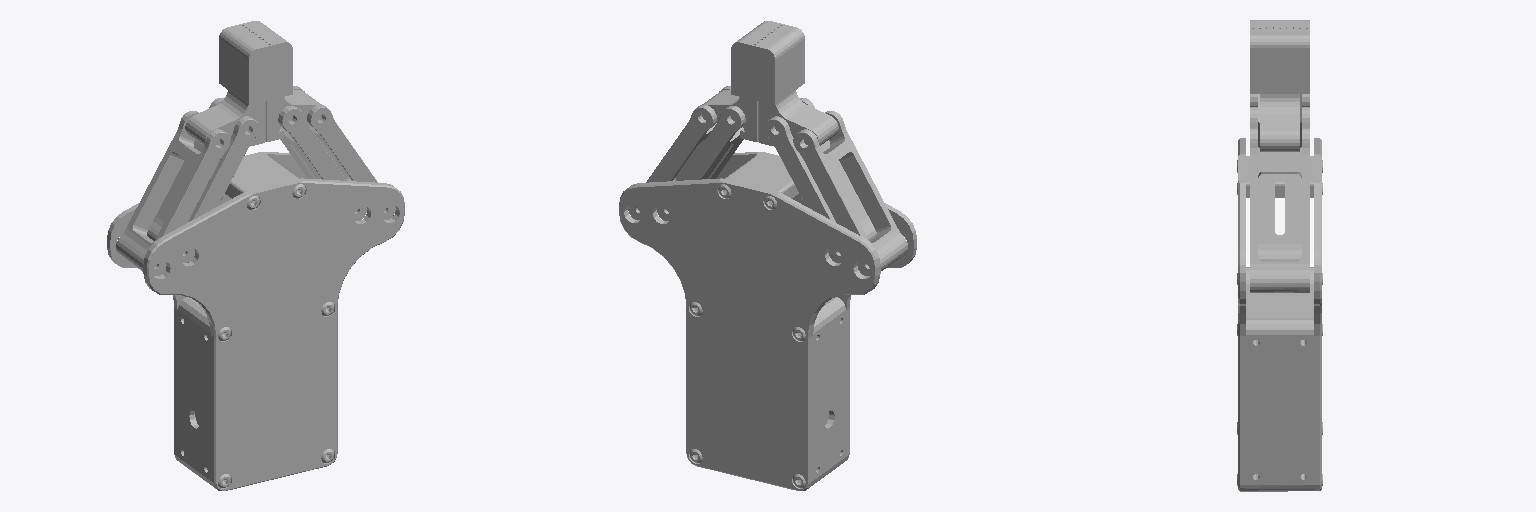
The robot description file, URDF, robot "EG2-4C2":
<?xml version="1.0" encoding="utf-8"?>
<!-- This URDF was automatically created by SolidWorks to URDF Exporter! Originally created by [author] ([email redacted]) 
     Commit Version: 1.6.0-1-g15f4949  Build Version: 1.6.7594.29634
     For more information, please see http://wiki.ros.org/sw_urdf_exporter -->
<robot
  name="EG2-4C2">
  <link
    name="4C2_baselink">
    <inertial>
      <origin
        xyz="1.5645E-05 -4.1838E-06 0.038"
        rpy="0 0 0" />
      <mass
        value="0.072633" />
      <inertia
        ixx="5.095E-05"
        ixy="-7.3167E-13"
        ixz="2.0229E-08"
        iyy="6.0883E-05"
        iyz="-4.5583E-09"
        izz="1.933E-05" />
    </inertial>
    <visual>
      <origin
        xyz="0 0 0"
        rpy="0 0 0" />
      <geometry>
        <mesh
          filename="package://EG2-4C2/meshes/4C2_baselink.STL" />
      </geometry>
      <material
        name="">
        <color
          rgba="0.75294 0.75294 0.75294 1" />
      </material>
    </visual>
    <collision>
      <origin
        xyz="0 0 0"
        rpy="0 0 0" />
      <geometry>
        <mesh
          filename="package://EG2-4C2/meshes/4C2_baselink.STL" />
      </geometry>
    </collision>
  </link>
  <link
    name="4C2_Link1">
    <inertial>
      <origin
        xyz="0.0087669 0.009 0.013992"
        rpy="0 0 0" />
      <mass
        value="0.0024292" />
      <inertia
        ixx="5.1061E-07"
        ixy="-8.6739E-19"
        ixz="-2.508E-07"
        iyy="5.7398E-07"
        iyz="-1.3667E-18"
        izz="2.6747E-07" />
    </inertial>
    <visual>
      <origin
        xyz="0 0 0"
        rpy="0 0 0" />
      <geometry>
        <mesh
          filename="package://EG2-4C2/meshes/4C2_Link1.STL" />
      </geometry>
      <material
        name="">
        <color
          rgba="0.75294 0.75294 0.75294 1" />
      </material>
    </visual>
    <collision>
      <origin
        xyz="0 0 0"
        rpy="0 0 0" />
      <geometry>
        <mesh
          filename="package://EG2-4C2/meshes/4C2_Link1.STL" />
      </geometry>
    </collision>
  </link>
  <joint
    name="4C2_Joint1"
    type="revolute">
    <origin
      xyz="-0.04 -0.009 0.079"
      rpy="0 0 0" />
    <parent
      link="4C2_baselink" />
    <child
      link="4C2_Link1" />
    <axis
      xyz="0 -1 0" />
    <limit
      lower="0"
      upper="0.82"
      effort="1"
      velocity="1" />
    
  </joint>
  <link
    name="4C2_Link5">
    <inertial>
      <origin
        xyz="0.011864 0.006 0.011367"
        rpy="0 0 0" />
      <mass
        value="0.0045068" />
      <inertia
        ixx="5.1288E-07"
        ixy="-9.8137E-14"
        ixz="-9.4703E-08"
        iyy="5.3203E-07"
        iyz="-6.212E-14"
        izz="2.009E-07" />
    </inertial>
    <visual>
      <origin
        xyz="0 0 0"
        rpy="0 0 0" />
      <geometry>
        <mesh
          filename="package://EG2-4C2/meshes/4C2_Link5.STL" />
      </geometry>
      <material
        name="">
        <color
          rgba="0.75294 0.75294 0.75294 1" />
      </material>
    </visual>
    <collision>
      <origin
        xyz="0 0 0"
        rpy="0 0 0" />
      <geometry>
        <mesh
          filename="package://EG2-4C2/meshes/4C2_Link5.STL" />
      </geometry>
    </collision>
  </link>
  <joint
    name="4C2_Joint5"
    type="revolute">
    <origin
      xyz="0.0223 0.003 0.035591"
      rpy="0 0 0" />
    <parent
      link="4C2_Link1" />
    <child
      link="4C2_Link5" />
    <axis
      xyz="0 1 0" />
    <limit
      lower="0"
      upper="0.82"
      effort="1"
      velocity="1" />
    <mimic joint="4C2_Joint1"/>
  </joint>
  <link
    name="4C2_Link2">
    <inertial>
      <origin
        xyz="0.0087435 0.009 0.013955"
        rpy="0 0 0" />
      <mass
        value="0.0038971" />
      <inertia
        ixx="5.6941E-07"
        ixy="-1.0711E-18"
        ixz="-2.6891E-07"
        iyy="6.2305E-07"
        iyz="-1.6845E-18"
        izz="3.0871E-07" />
    </inertial>
    <visual>
      <origin
        xyz="0 0 0"
        rpy="0 0 0" />
      <geometry>
        <mesh
          filename="package://EG2-4C2/meshes/4C2_Link2.STL" />
      </geometry>
      <material
        name="">
        <color
          rgba="0.75294 0.75294 0.75294 1" />
      </material>
    </visual>
    <collision>
      <origin
        xyz="0 0 0"
        rpy="0 0 0" />
      <geometry>
        <mesh
          filename="package://EG2-4C2/meshes/4C2_Link2.STL" />
      </geometry>
    </collision>
  </link>
  <joint
    name="4C2_Joint2"
    type="revolute">
    <origin
      xyz="-0.03 -0.009 0.081"
      rpy="0 0 0" />
    <parent
      link="4C2_baselink" />
    <child
      link="4C2_Link2" />
    <axis
      xyz="0 -1 0" />
    <limit
      lower="0"
      upper="0.82"
      effort="1"
      velocity="1" />
    <mimic joint="4C2_Joint1"/>
  </joint>
  <link
    name="4C2_Link3">
    <inertial>
      <origin
        xyz="-0.0087435 0.009 0.013955"
        rpy="0 0 0" />
      <mass
        value="0.0038971" />
      <inertia
        ixx="5.6941E-07"
        ixy="1.0666E-18"
        ixz="2.6891E-07"
        iyy="6.2305E-07"
        iyz="-1.8084E-18"
        izz="3.0871E-07" />
    </inertial>
    <visual>
      <origin
        xyz="0 0 0"
        rpy="0 0 0" />
      <geometry>
        <mesh
          filename="package://EG2-4C2/meshes/4C2_Link3.STL" />
      </geometry>
      <material
        name="">
        <color
          rgba="0.75294 0.75294 0.75294 1" />
      </material>
    </visual>
    <collision>
      <origin
        xyz="0 0 0"
        rpy="0 0 0" />
      <geometry>
        <mesh
          filename="package://EG2-4C2/meshes/4C2_Link3.STL" />
      </geometry>
    </collision>
  </link>
  <joint
    name="4C2_Joint3"
    type="revolute">
    <origin
      xyz="0.03 -0.009 0.081"
      rpy="0 0 0" />
    <parent
      link="4C2_baselink" />
    <child
      link="4C2_Link3" />
    <axis
      xyz="0 -1 0" />
    <limit
      lower="-0.82"
      upper="0"
      effort="1"
      velocity="1" />
    <mimic joint="4C2_Joint1" multiplier="-1"  offset="0"/>
  </joint>
  <link
    name="4C2_Link4">
    <inertial>
      <origin
        xyz="-0.0087669 0.009 0.013992"
        rpy="0 0 0" />
      <mass
        value="0.0024292" />
      <inertia
        ixx="5.1061E-07"
        ixy="-9.5279E-19"
        ixz="2.508E-07"
        iyy="5.7398E-07"
        iyz="7.6863E-19"
        izz="2.6747E-07" />
    </inertial>
    <visual>
      <origin
        xyz="0 0 0"
        rpy="0 0 0" />
      <geometry>
        <mesh
          filename="package://EG2-4C2/meshes/4C2_Link4.STL" />
      </geometry>
      <material
        name="">
        <color
          rgba="0.75294 0.75294 0.75294 1" />
      </material>
    </visual>
    <collision>
      <origin
        xyz="0 0 0"
        rpy="0 0 0" />
      <geometry>
        <mesh
          filename="package://EG2-4C2/meshes/4C2_Link4.STL" />
      </geometry>
    </collision>
  </link>
  <joint
    name="4C2_Joint4"
    type="revolute">
    <origin
      xyz="0.04 -0.009 0.079"
      rpy="0 0 0" />
    <parent
      link="4C2_baselink" />
    <child
      link="4C2_Link4" />
    <axis
      xyz="0 -1 0" />
    <limit
      lower="-0.82"
      upper="0"
      effort="1"
      velocity="1" />
    <mimic joint="4C2_Joint1" multiplier="-1"  offset="0"/>
  </joint>
  <link
    name="4C2_Link6">
    <inertial>
      <origin
        xyz="-0.011864 0.006 0.011367"
        rpy="0 0 0" />
      <mass
        value="0.0045068" />
      <inertia
        ixx="5.1288E-07"
        ixy="-9.8137E-14"
        ixz="9.4703E-08"
        iyy="5.3203E-07"
        iyz="6.2119E-14"
        izz="2.009E-07" />
    </inertial>
    <visual>
      <origin
        xyz="0 0 0"
        rpy="0 0 0" />
      <geometry>
        <mesh
          filename="package://EG2-4C2/meshes/4C2_Link6.STL" />
      </geometry>
      <material
        name="">
        <color
          rgba="0.75294 0.75294 0.75294 1" />
      </material>
    </visual>
    <collision>
      <origin
        xyz="0 0 0"
        rpy="0 0 0" />
      <geometry>
        <mesh
          filename="package://EG2-4C2/meshes/4C2_Link6.STL" />
      </geometry>
    </collision>
  </link>
  <joint
    name="4C2_Joint6"
    type="revolute">
    <origin
      xyz="-0.0223 0.003 0.035591"
      rpy="0 0 0" />
    <parent
      link="4C2_Link4" />
    <child
      link="4C2_Link6" />
    <axis
      xyz="0 -1 0" />
    <limit
      lower="0"
      upper="0.82"
      effort="1"
      velocity="1" />
    <mimic joint="4C2_Joint1"/>
  </joint>
  <transmission name="gripper_finger1_trans">
    <type>transmission_interface/SimpleTransmission</type>
    <joint name="4C2_Joint1">
      <hardwareInterface>PositionJointInterface</hardwareInterface>
    </joint>
    <actuator name="gripper_finger1_motor">
      <mechanicalReduction>1</mechanicalReduction>
      <hardwareInterface>PositionJointInterface</hardwareInterface>
    </actuator>
  </transmission>
</robot>

--- What the picture shows (computed from the rendered views, not written in the file) ---
3 views of the same robot in one strip: view 1: azimuth 30°, elevation 25°; view 2: azimuth 150°, elevation 25°; view 3: azimuth 270°, elevation 25° (orthographic).
Model EG2-4C2 with 7 links and 6 joints (6 revolute), rooted at 4C2_baselink, posed all joints at 0.
Links seen in each view (by area): view 1: 4C2_baselink, 4C2_Link1, 4C2_Link5, 4C2_Link2, 4C2_Link6, 4C2_Link3, 4C2_Link4; view 2: 4C2_baselink, 4C2_Link1, 4C2_Link5, 4C2_Link2, 4C2_Link6, 4C2_Link3, 4C2_Link4; view 3: 4C2_baselink, 4C2_Link6, 4C2_Link4, 4C2_Link3.
Boxes of the visible links, x1=… form: 4C2_baselink: x1=107, y1=152, x2=404, y2=490; 4C2_Link1: x1=116, y1=111, x2=230, y2=275; 4C2_Link5: x1=185, y1=24, x2=270, y2=146; 4C2_Link2: x1=147, y1=98, x2=258, y2=262; 4C2_Link6: x1=242, y1=21, x2=321, y2=141; 4C2_Link3: x1=278, y1=106, x2=366, y2=220; 4C2_Link4: x1=293, y1=86, x2=395, y2=219; 4C2_baselink: x1=619, y1=152, x2=916, y2=490; 4C2_Link1: x1=793, y1=111, x2=907, y2=275; 4C2_Link5: x1=753, y1=24, x2=838, y2=146; 4C2_Link2: x1=765, y1=98, x2=876, y2=262; 4C2_Link6: x1=702, y1=21, x2=781, y2=141; 4C2_Link3: x1=657, y1=106, x2=745, y2=220; 4C2_Link4: x1=628, y1=86, x2=730, y2=219; 4C2_baselink: x1=1237, y1=138, x2=1322, y2=491; 4C2_Link6: x1=1250, y1=28, x2=1309, y2=151; 4C2_Link4: x1=1250, y1=128, x2=1309, y2=292; 4C2_Link3: x1=1250, y1=107, x2=1309, y2=261.
Bounding box of the posed robot: 0.09 × 0.0255 × 0.1431 m (x, y, z).
Meshes: 7 distinct files referenced, 7 mesh visuals loaded (7 binary STL).